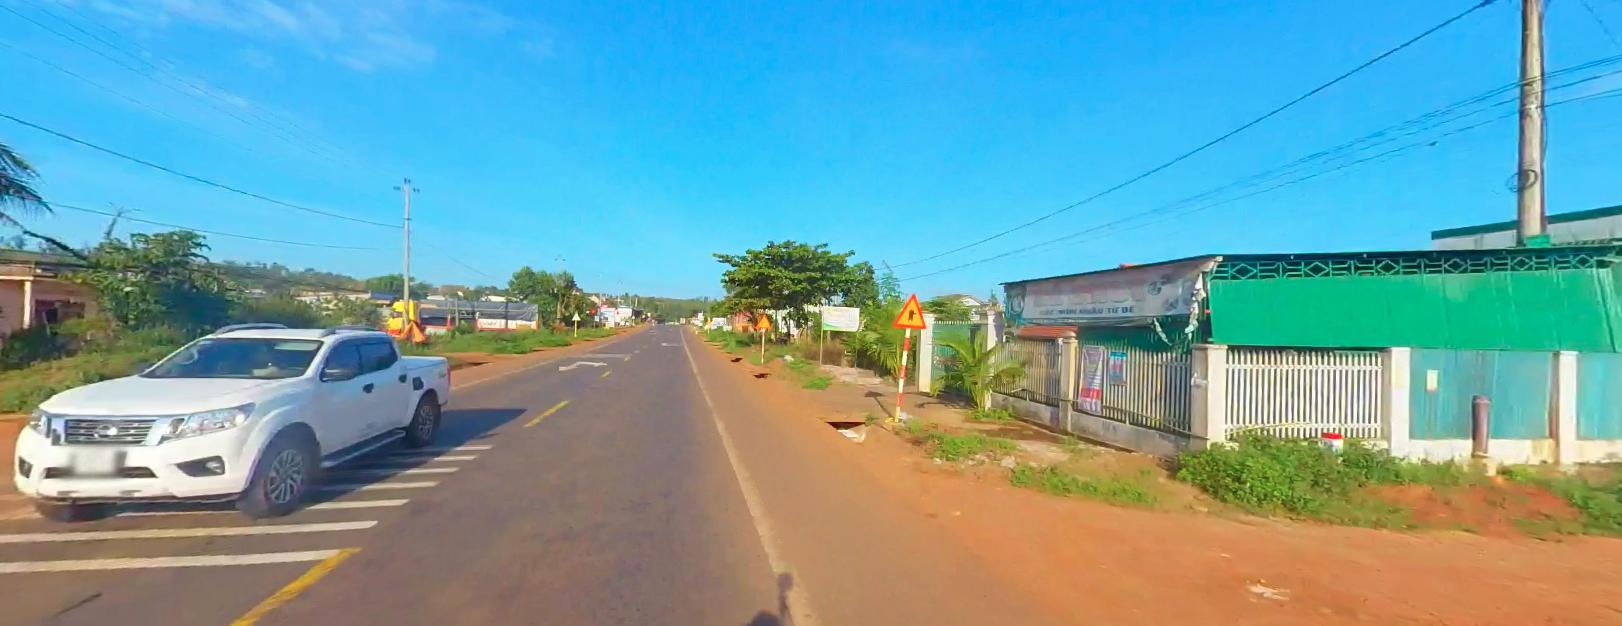Nguy hiem: (890, 291, 927, 327), (753, 312, 771, 327)
